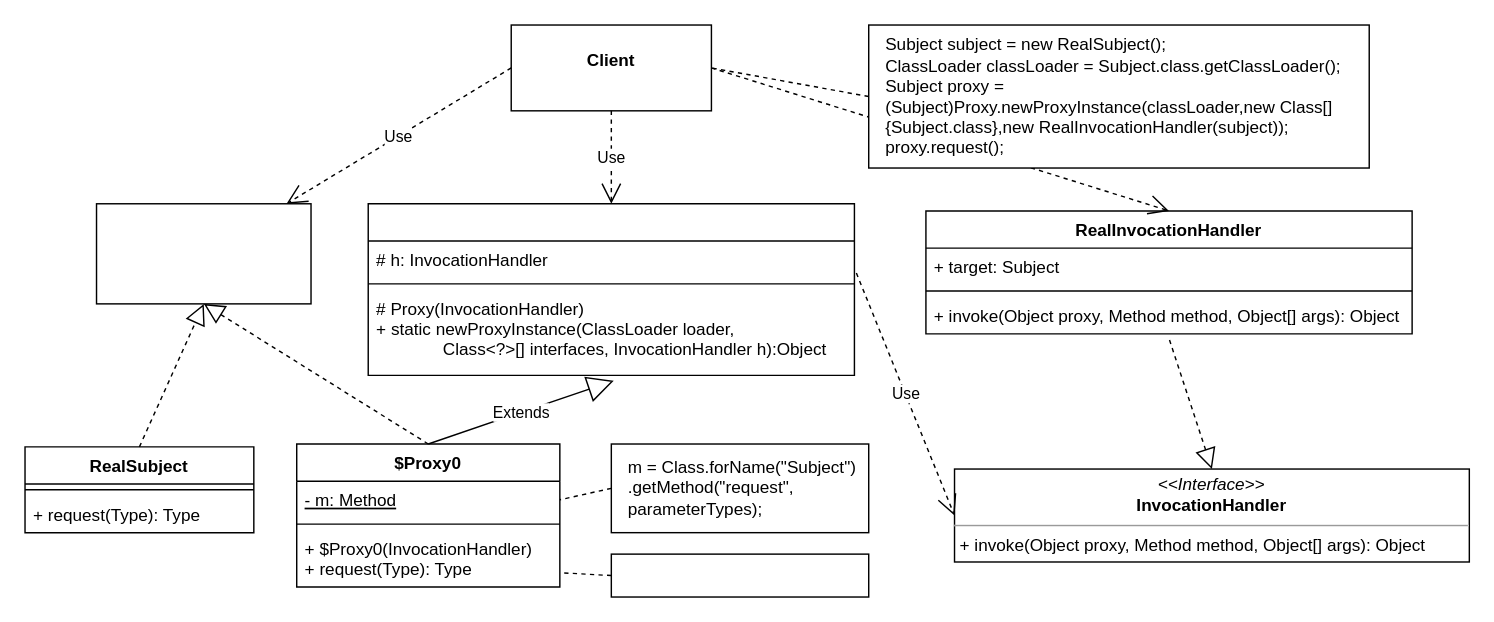
The diagram is 1494 pixels wide and 622 high, and some of its shapes have lost their labels. The shapes that lost their labels are listed below. From the top down, each one's box as (x1, y1, x2, y2) in pixels, then its label:
(95, 202, 311, 304): <<Interface>> Subject + request(Type): Type
(367, 202, 854, 375): java.lang.reflect.Proxy
(610, 553, 869, 597): super.h.invoke(this,m,args)
